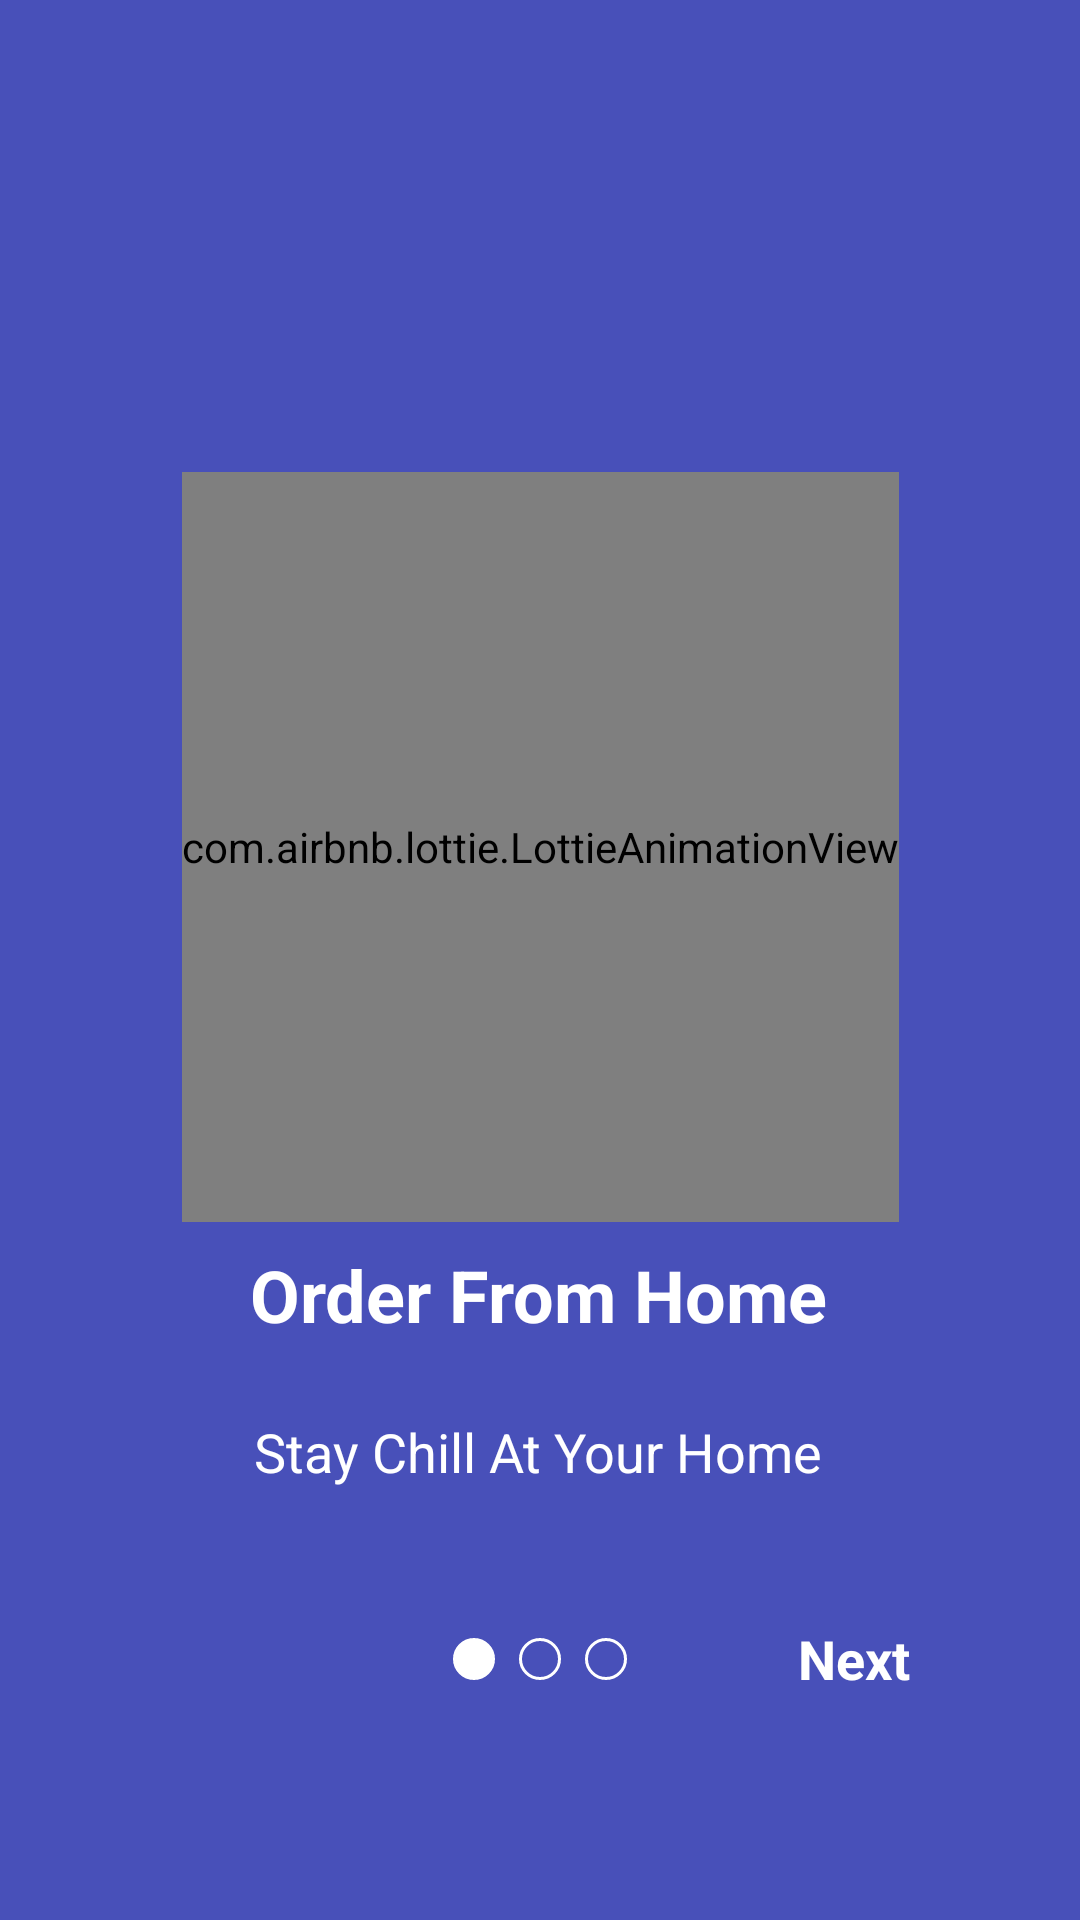

Icon bounding boxes for this 1080x1920 phone screenshot, format bbox=(x1, y1, x2, y2):
circle: bbox=(453, 1638, 495, 1680)
circle blank: bbox=(519, 1638, 561, 1680), bbox=(585, 1638, 627, 1680)
